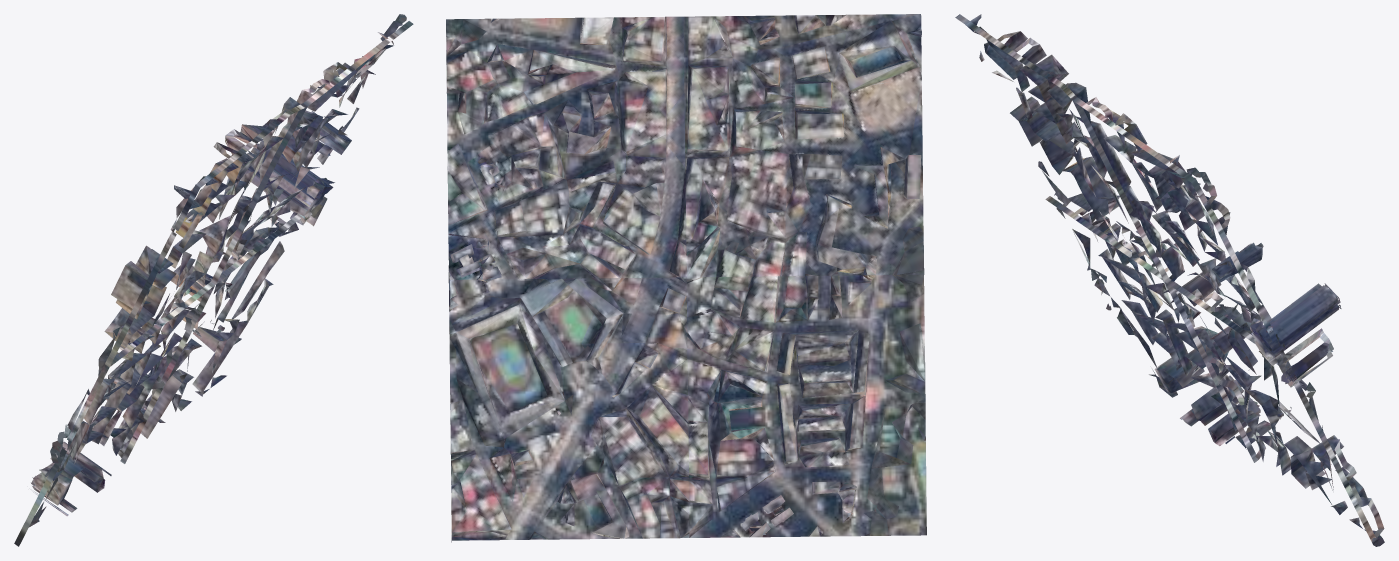
3 renders of one model, left to right at view 1: azimuth 30°, elevation 25°; view 2: azimuth 150°, elevation 25°; view 3: azimuth 270°, elevation 25°, orthographic. The views are drawn at different scales.
Bounding box in the file's own units: 612 × 573 × 524.
Materials: 1 (1 with a texture image).
